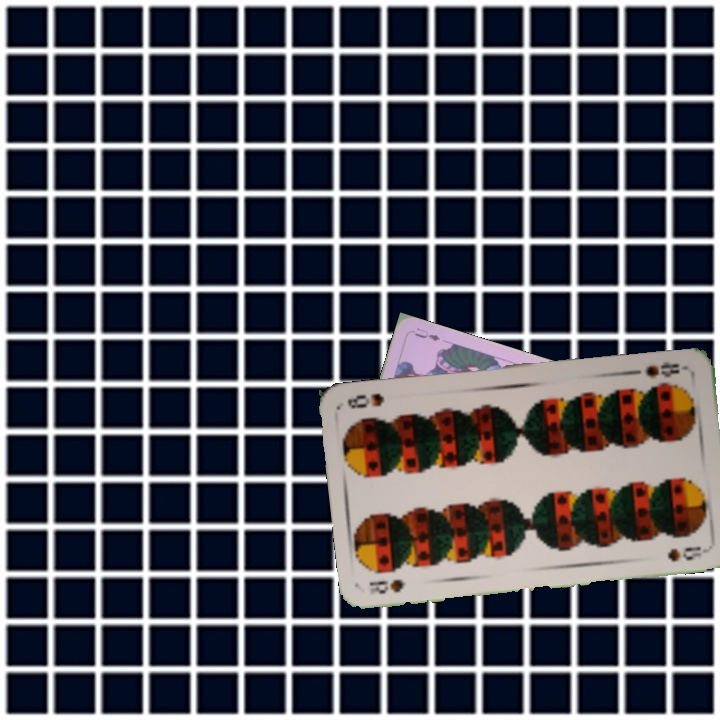S8: (641, 357, 691, 380), (365, 575, 409, 598)
